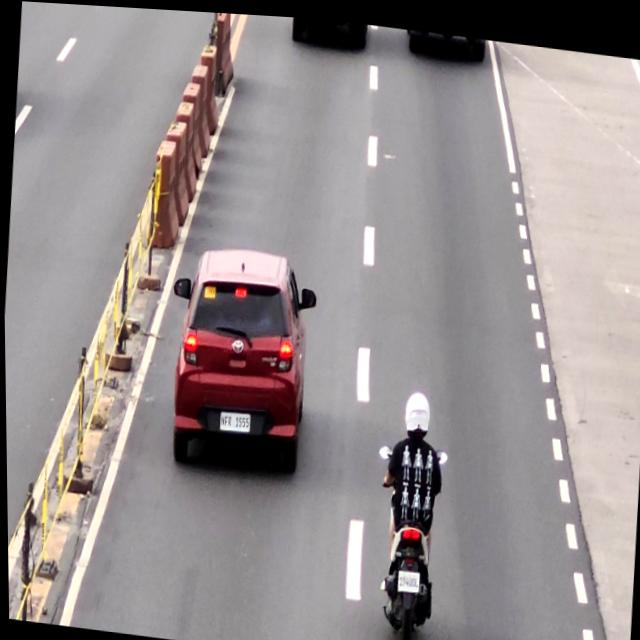Car: (160, 237, 318, 475)
License-Plate: (217, 408, 249, 431), (395, 566, 418, 590)
Motorcycle: (363, 433, 452, 640)
